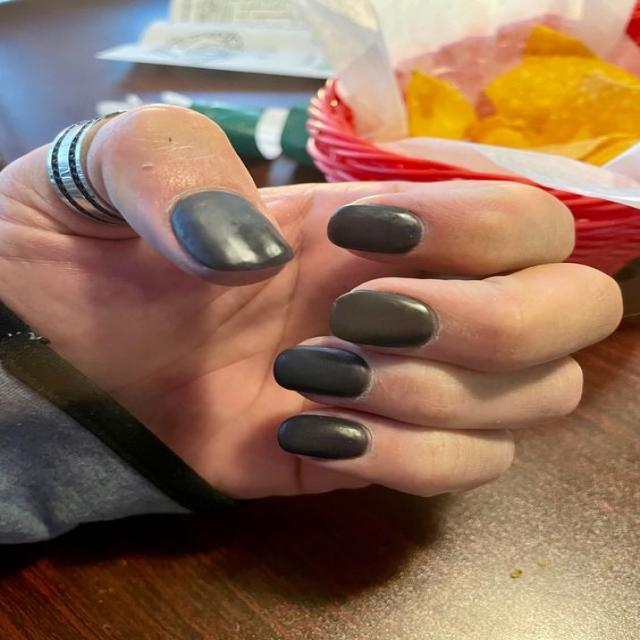Fingernail: (172, 190, 292, 270), (329, 290, 437, 348), (274, 347, 371, 397), (328, 204, 422, 253), (278, 415, 368, 460)
